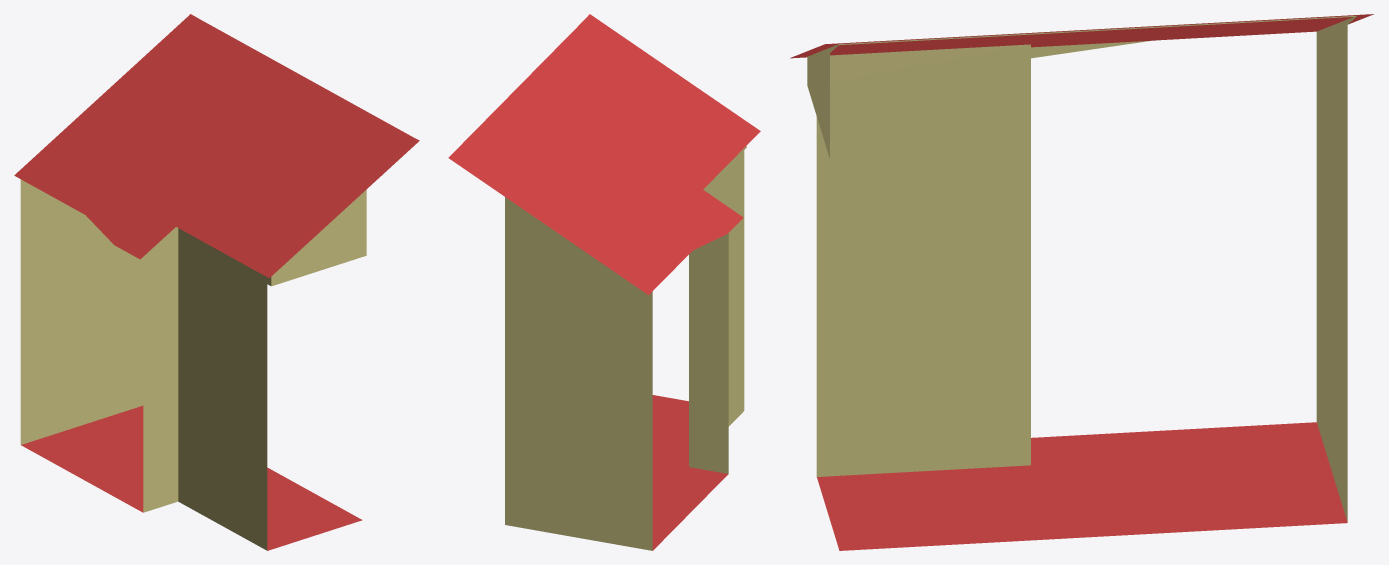
The picture shows the model from 3 angles, left to right: view 1: azimuth 30°, elevation 25°; view 2: azimuth 150°, elevation 25°; view 3: azimuth 270°, elevation 25°; orthographic projection. The views are drawn at different scales.
Size of the model in its own units: 6.09 by 9.02 by 9.25.
